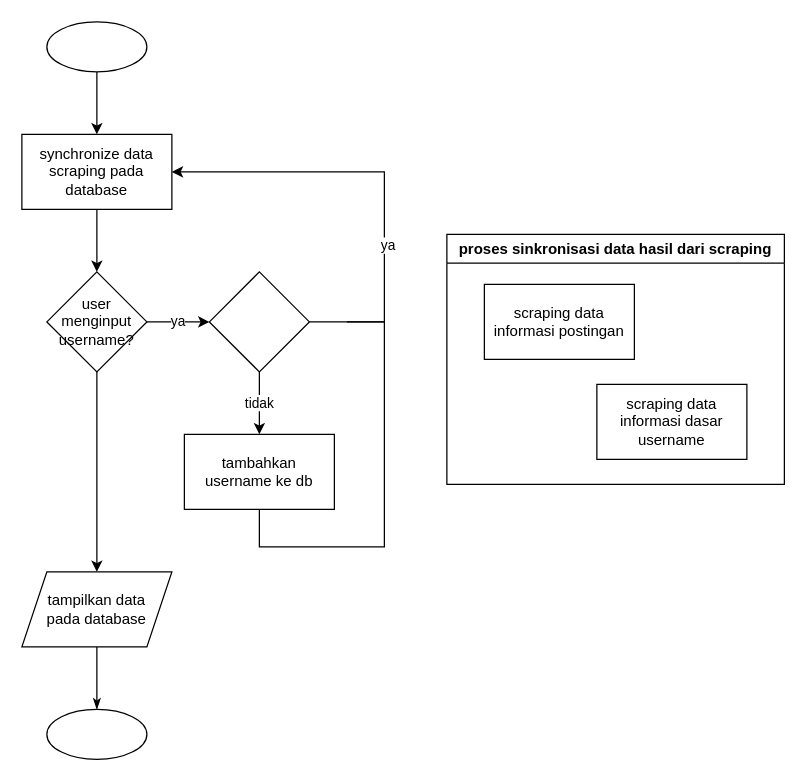
This 806x781 diagram has some shape labels left out. The shapes that lost their labels are listed below. From the top down, each one's box as (x1, y1, x2, y2) in pixels, then its label:
(46, 21, 147, 72): START
(208, 271, 309, 372): username ada di db?
(46, 708, 147, 759): END
